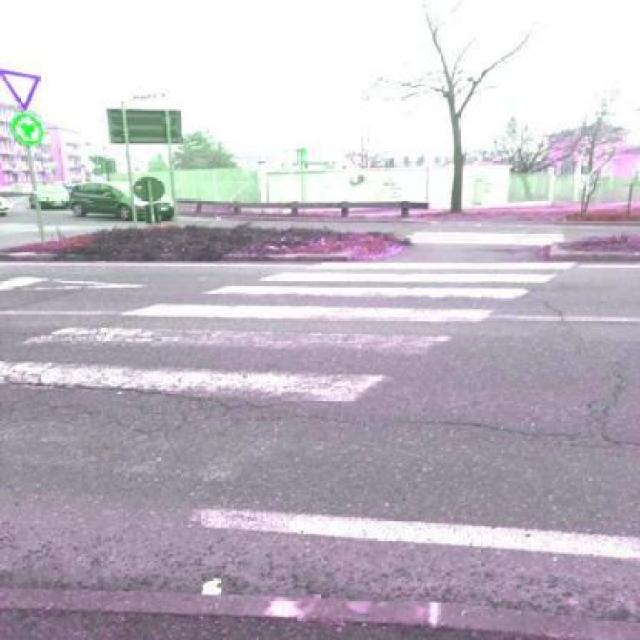faded_crosswalk: (0, 259, 576, 402)
